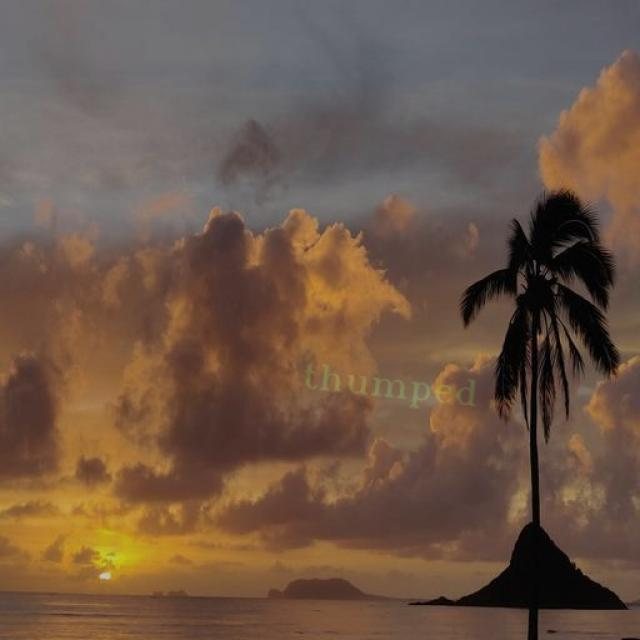watermark: (291, 360, 502, 411)
